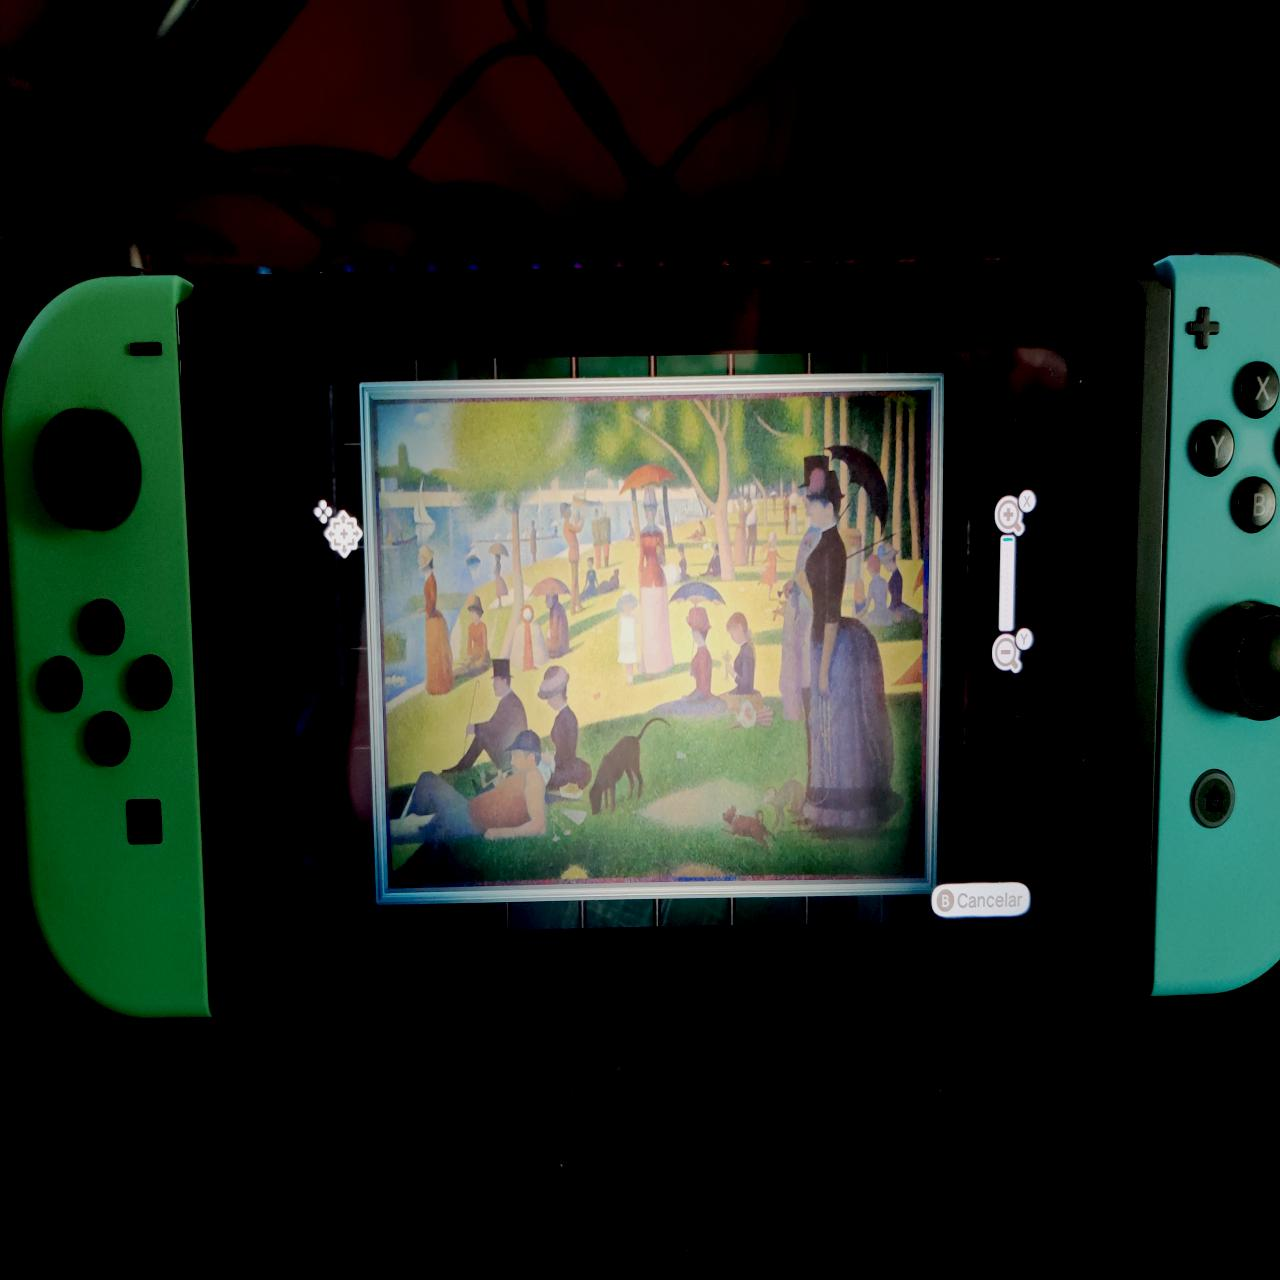SundayOn: (376, 404, 930, 886)
